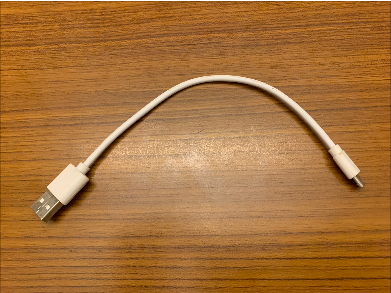Nonfood: (36, 59, 345, 216)
